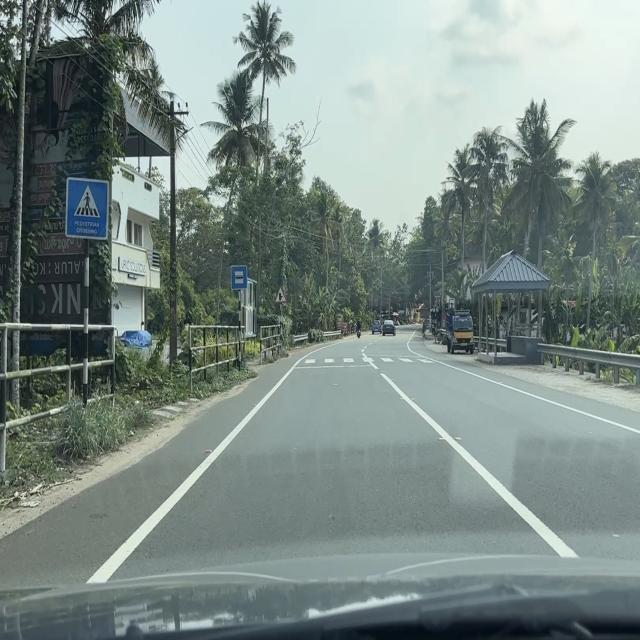INFORMATION: (230, 264, 248, 290)
PEDESTRIAN_CROSSING: (65, 176, 110, 240)
SIDE_ROAD_RIGHT: (274, 286, 287, 303)
